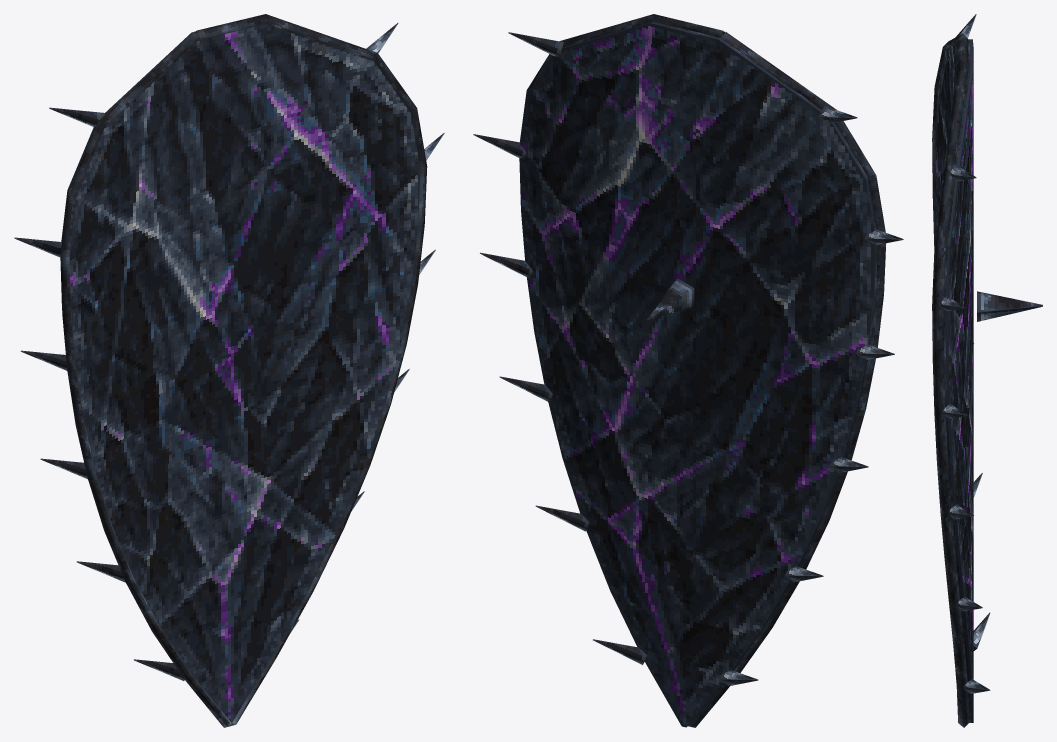
File: kite.glb
The picture shows the model from 3 angles, left to right: view 1: azimuth 30°, elevation 25°; view 2: azimuth 150°, elevation 25°; view 3: azimuth 270°, elevation 25°; orthographic projection. The views are drawn at different scales.
Parts seen in each view (by area): view 1: thorned_kite; view 2: thorned_kite; view 3: thorned_kite.
Boxes of the visible parts, x1,y1,x2,y2 form: thorned_kite: [14, 14, 444, 727]; thorned_kite: [473, 14, 903, 727]; thorned_kite: [932, 14, 1042, 727].
Size of the model in its own units: 0.579 by 0.9053 by 0.1347.
Materials: 1 (1 with a texture image).
